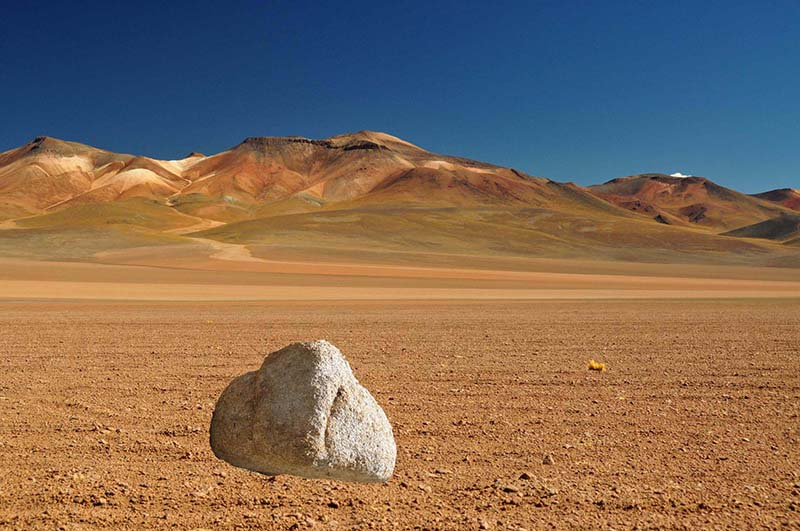Rocks: (206, 336, 404, 487)
